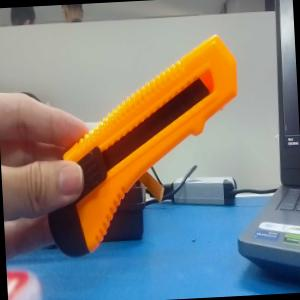estilete: (46, 32, 246, 258)
